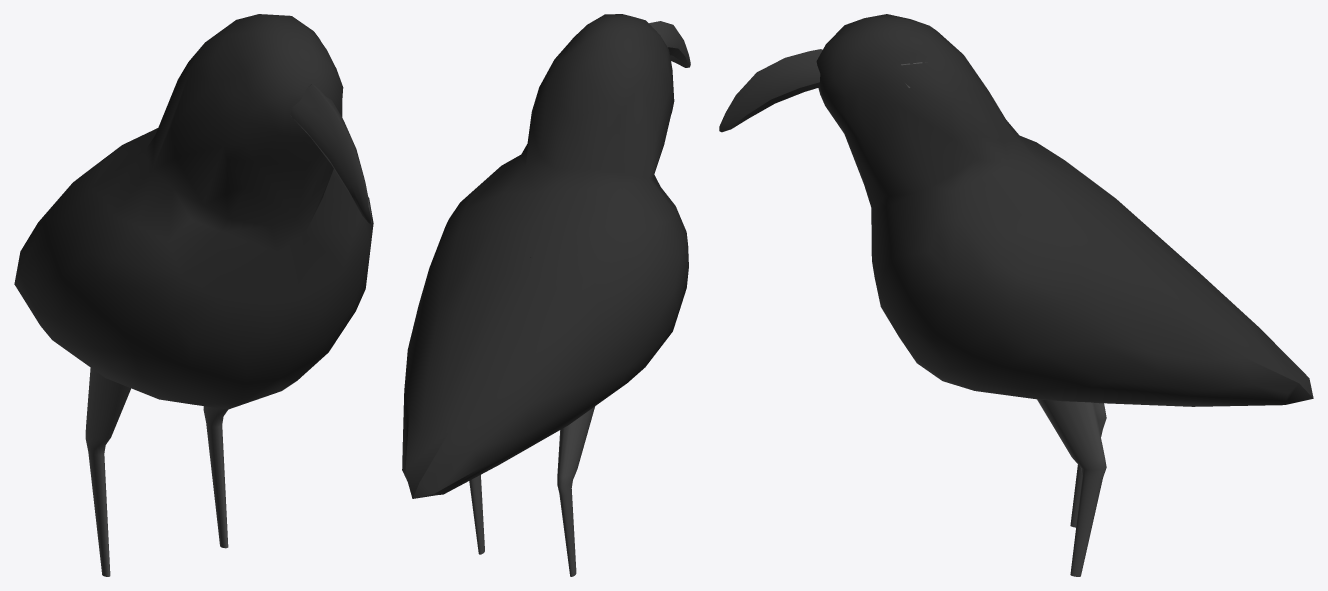
File: Cuervo.fbx
3 views of the same model, side by side, from view 1: azimuth 30°, elevation 25°; view 2: azimuth 150°, elevation 25°; view 3: azimuth 270°, elevation 25° (orthographic). The views are drawn at different scales.
Visible parts, largest first — view 1: Plano.006; view 2: Plano.006; view 3: Plano.006.
Boxes of the visible parts, bbox=[...] form: Plano.006: bbox=[14, 14, 373, 576]; Plano.006: bbox=[402, 14, 690, 576]; Plano.006: bbox=[719, 14, 1313, 576].
Bounding box in the file's own units: 17.2 × 35.06 × 35.45.
